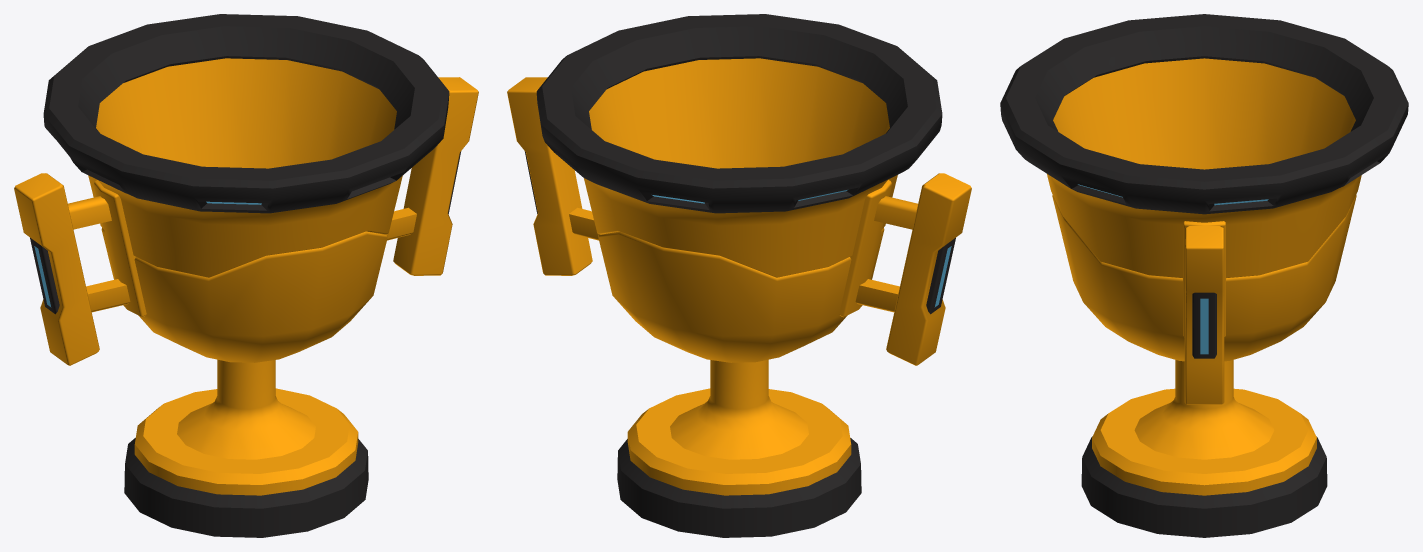
File: cup_001.fbx
3 renders of one model, left to right at view 1: azimuth 30°, elevation 25°; view 2: azimuth 150°, elevation 25°; view 3: azimuth 270°, elevation 25°, orthographic.
Visible parts, largest first — view 1: cup_001; view 2: cup_001; view 3: cup_001.
Part boxes in pixels (x1,y1,x2,y2): cup_001: [14, 14, 478, 537]; cup_001: [507, 14, 971, 537]; cup_001: [1000, 14, 1408, 537].
Bounding box in the file's own units: 551 × 437 × 458.
